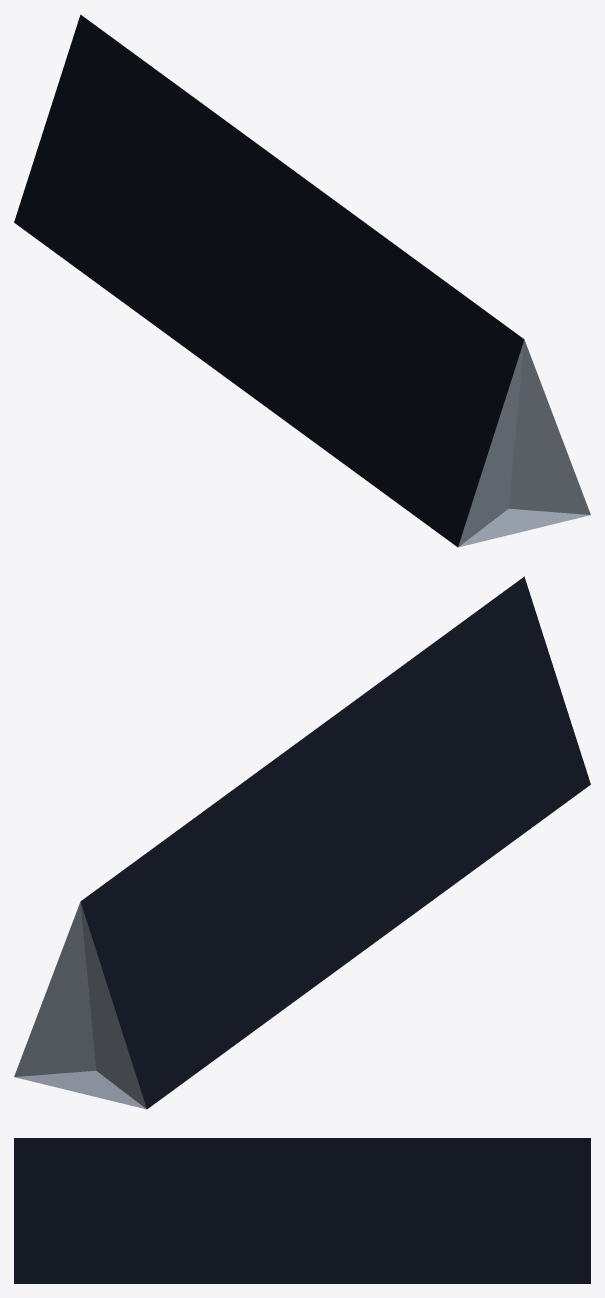
The model's file is SoldOutSign.fbx.
The picture shows the model from 3 angles, top to bottom: view 1: azimuth 30°, elevation 25°; view 2: azimuth 150°, elevation 25°; view 3: azimuth 270°, elevation 25°; orthographic projection. The views are drawn at different scales.
Visible parts, largest first — view 1: Shop_Sign_SoldOut; view 2: Shop_Sign_SoldOut; view 3: Shop_Sign_SoldOut.
Boxes of the visible parts, bbox=[...] form: Shop_Sign_SoldOut: bbox=[14, 14, 590, 547]; Shop_Sign_SoldOut: bbox=[14, 576, 590, 1109]; Shop_Sign_SoldOut: bbox=[14, 1138, 590, 1283].
Size of the model in its own units: 19.03 by 26.23 by 110.
